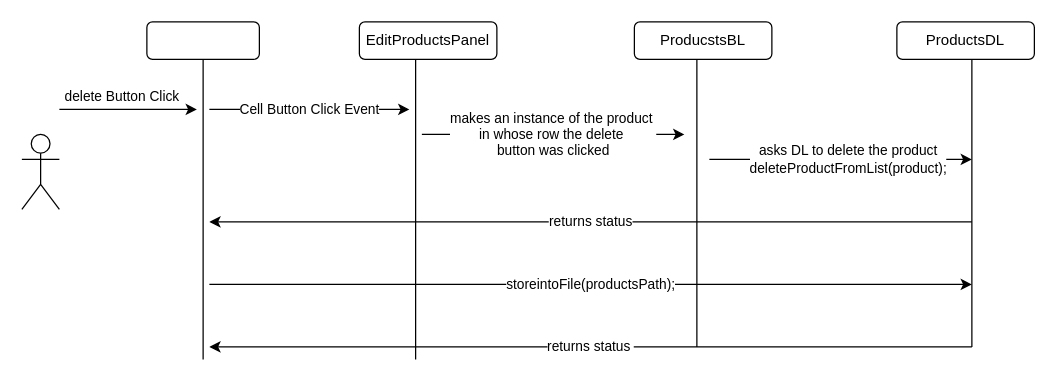
This 1056x383 diagram has some shape labels left out. The shapes that lost their labels are listed below. From the top down, each one's centre as x and y in pixels, then its label:
At pixel 202 40: "EditProducts.cs".
At pixel 40 171: "Actor".
